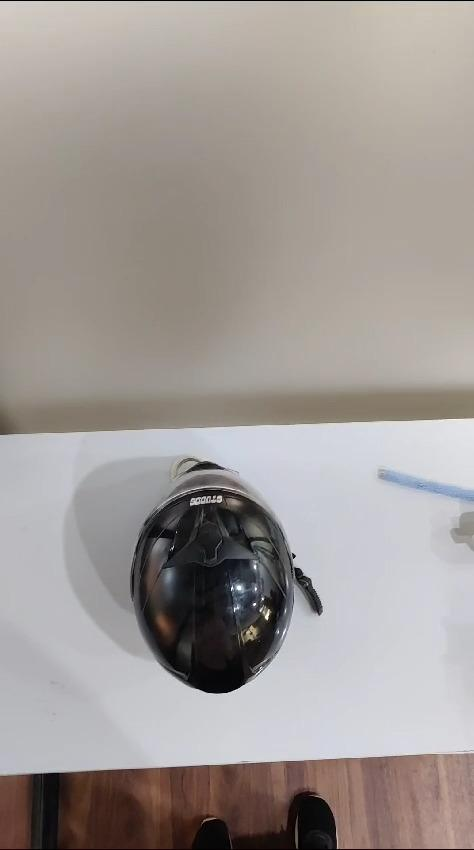Helmet: (131, 459, 321, 692)
